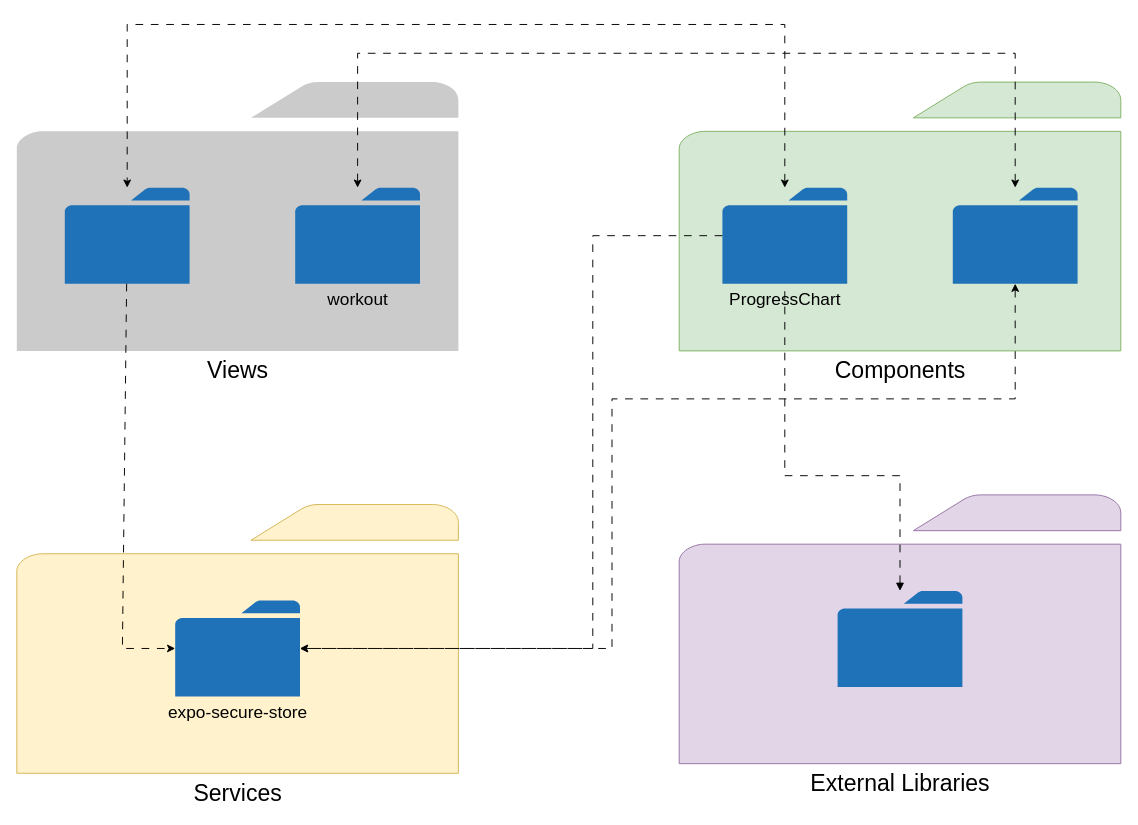
This 1138x825 diagram has some shape labels left out. Each missing label, with the centre of its shape:
"BarChart" belongs at (x=899, y=638).
"index" belongs at (x=126, y=235).
"PushUpTracker" belongs at (x=1014, y=235).
